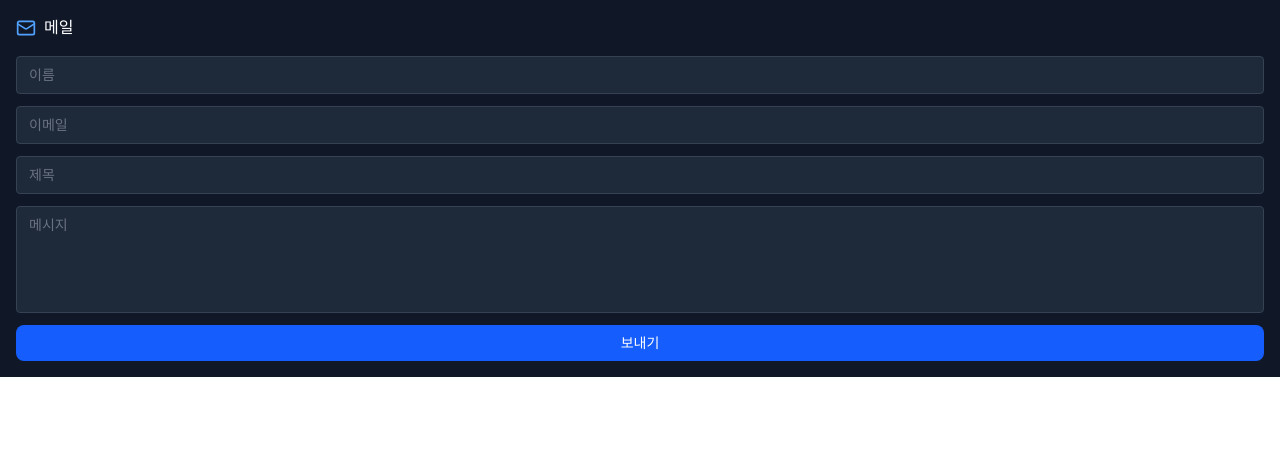
MailingApp › shows validation error when submitting empty form
Click the button with test id "mail-submit" at (640, 343), box [16,325,1264,361]
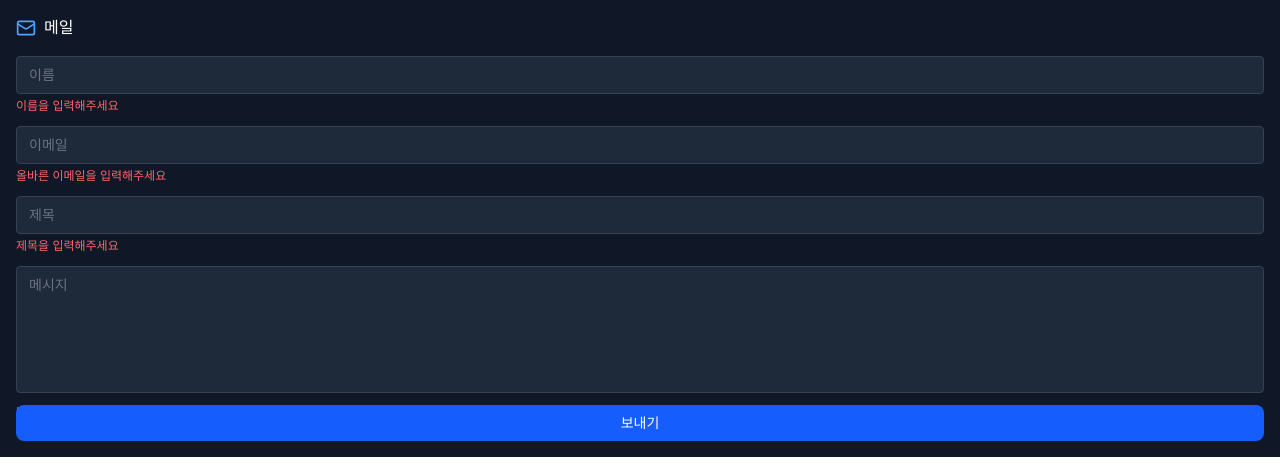
Expected: the text "이름을 입력해주세요" is shown, [16,99,119,113]
Expected: the text "올바른 이메일을 입력해주세요" is shown, [16,169,166,183]
Expected: the text "제목을 입력해주세요" is shown, [16,239,119,253]
